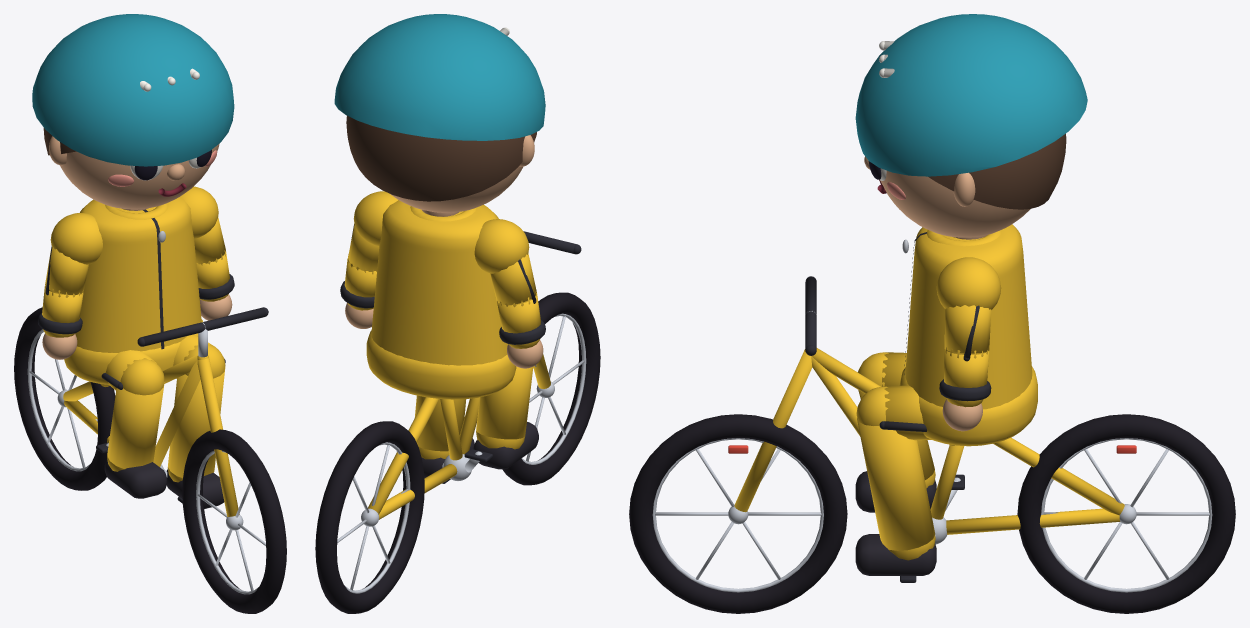
File: ch_passer_cyclist.fbx
3 renders of one model, left to right at view 1: azimuth 30°, elevation 25°; view 2: azimuth 150°, elevation 25°; view 3: azimuth 270°, elevation 25°, orthographic. The views are drawn at different scales.
Parts seen in each view (by area): view 1: ch_passer_cyclist__base, ch_passer_cyclist__anim_wheel_f, ch_passer_cyclist__anim_pedal_l, ch_passer_cyclist__anim_wheel_b, ch_passer_cyclist__anim_pedal_r; view 2: ch_passer_cyclist__base, ch_passer_cyclist__anim_wheel_b, ch_passer_cyclist__anim_wheel_f, ch_passer_cyclist__anim_pedal_l, ch_passer_cyclist__anim_pedal_r, ch_passer_cyclist__anim_crank; view 3: ch_passer_cyclist__base, ch_passer_cyclist__anim_wheel_f, ch_passer_cyclist__anim_wheel_b, ch_passer_cyclist__anim_pedal_r, ch_passer_cyclist__anim_pedal_l.
Part boxes in pixels (bbox=[...]): ch_passer_cyclist__base: bbox=[32, 14, 268, 516]; ch_passer_cyclist__anim_wheel_f: bbox=[182, 429, 286, 613]; ch_passer_cyclist__anim_pedal_l: bbox=[101, 350, 167, 498]; ch_passer_cyclist__anim_wheel_b: bbox=[14, 307, 115, 490]; ch_passer_cyclist__anim_pedal_r: bbox=[166, 334, 225, 508]; ch_passer_cyclist__base: bbox=[334, 14, 581, 519]; ch_passer_cyclist__anim_wheel_b: bbox=[315, 421, 424, 613]; ch_passer_cyclist__anim_wheel_f: bbox=[502, 292, 600, 485]; ch_passer_cyclist__anim_pedal_l: bbox=[473, 366, 538, 469]; ch_passer_cyclist__anim_pedal_r: bbox=[414, 395, 474, 477]; ch_passer_cyclist__anim_crank: bbox=[424, 449, 492, 483]; ch_passer_cyclist__base: bbox=[734, 14, 1124, 534]; ch_passer_cyclist__anim_wheel_f: bbox=[629, 414, 847, 613]; ch_passer_cyclist__anim_wheel_b: bbox=[1017, 414, 1235, 613]; ch_passer_cyclist__anim_pedal_r: bbox=[855, 385, 936, 575]; ch_passer_cyclist__anim_pedal_l: bbox=[855, 352, 936, 512].
Size of the model in its own units: 0.6787 by 1.73 by 1.62.
